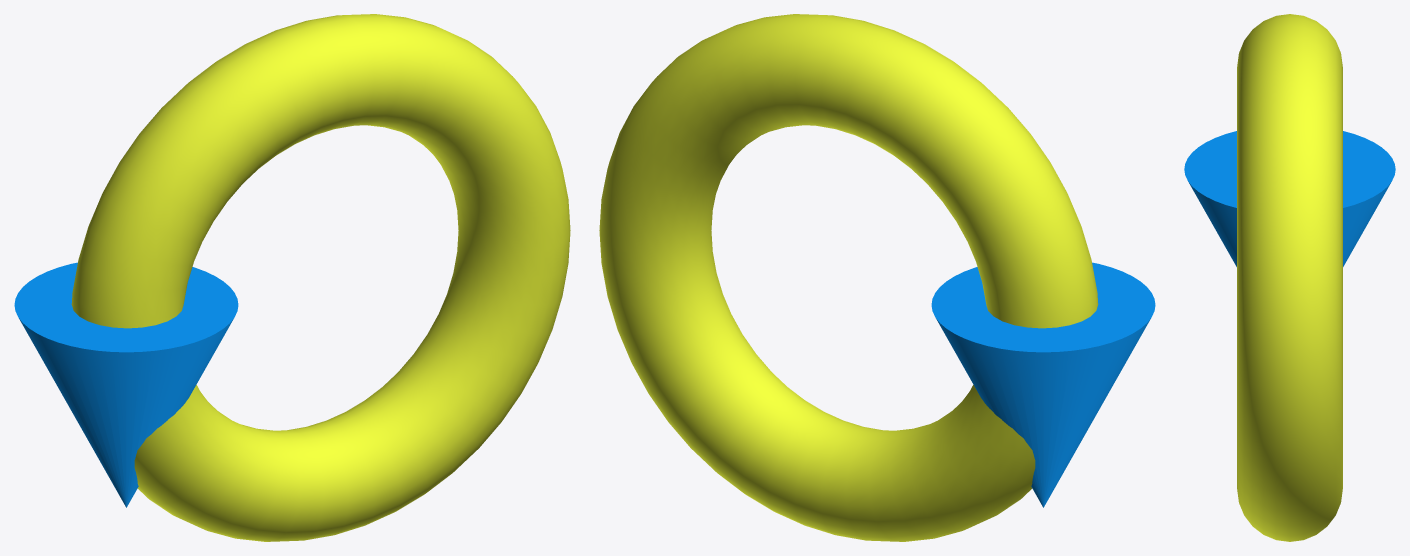
The model's file is arrow_down_circle.dae.
The picture shows the model from 3 angles, left to right: view 1: azimuth 30°, elevation 25°; view 2: azimuth 150°, elevation 25°; view 3: azimuth 270°, elevation 25°; orthographic projection. The views are drawn at different scales.
Visible parts, largest first — view 1: torus, cone; view 2: torus, cone; view 3: torus, cone.
Part boxes in pixels (box(x1,y1,x2,y2)): torus: box(71, 14, 570, 541); cone: box(14, 262, 238, 507); torus: box(599, 14, 1098, 541); cone: box(931, 262, 1155, 507); torus: box(1237, 14, 1342, 541); cone: box(1184, 131, 1395, 266).
Size of the model in its own units: 1.37 by 1.25 by 0.5.
